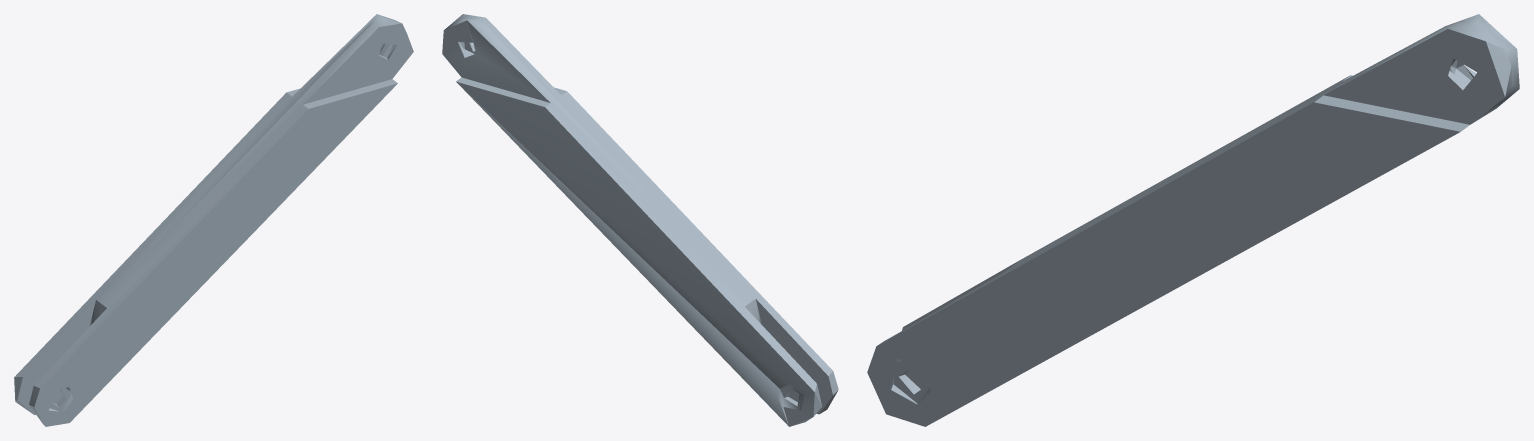
3 views of the same model, side by side, from view 1: azimuth 30°, elevation 25°; view 2: azimuth 150°, elevation 25°; view 3: azimuth 330°, elevation 25° (orthographic). The views are drawn at different scales.
Parts seen in each view (by area): view 1: tmp_export_br_link3; view 2: tmp_export_br_link3; view 3: tmp_export_br_link3.
Boxes of the visible parts, x1=… form: tmp_export_br_link3: x1=14, y1=14, x2=413, y2=426; tmp_export_br_link3: x1=442, y1=14, x2=838, y2=426; tmp_export_br_link3: x1=867, y1=14, x2=1519, y2=426.
Bounding box in the file's own units: 0.1197 × 0.0125 × 0.0959.
